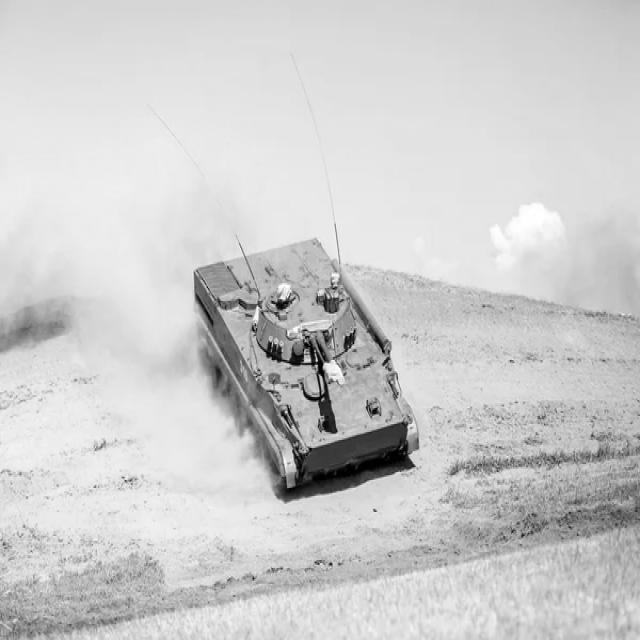Tank: (192, 224, 418, 498)
